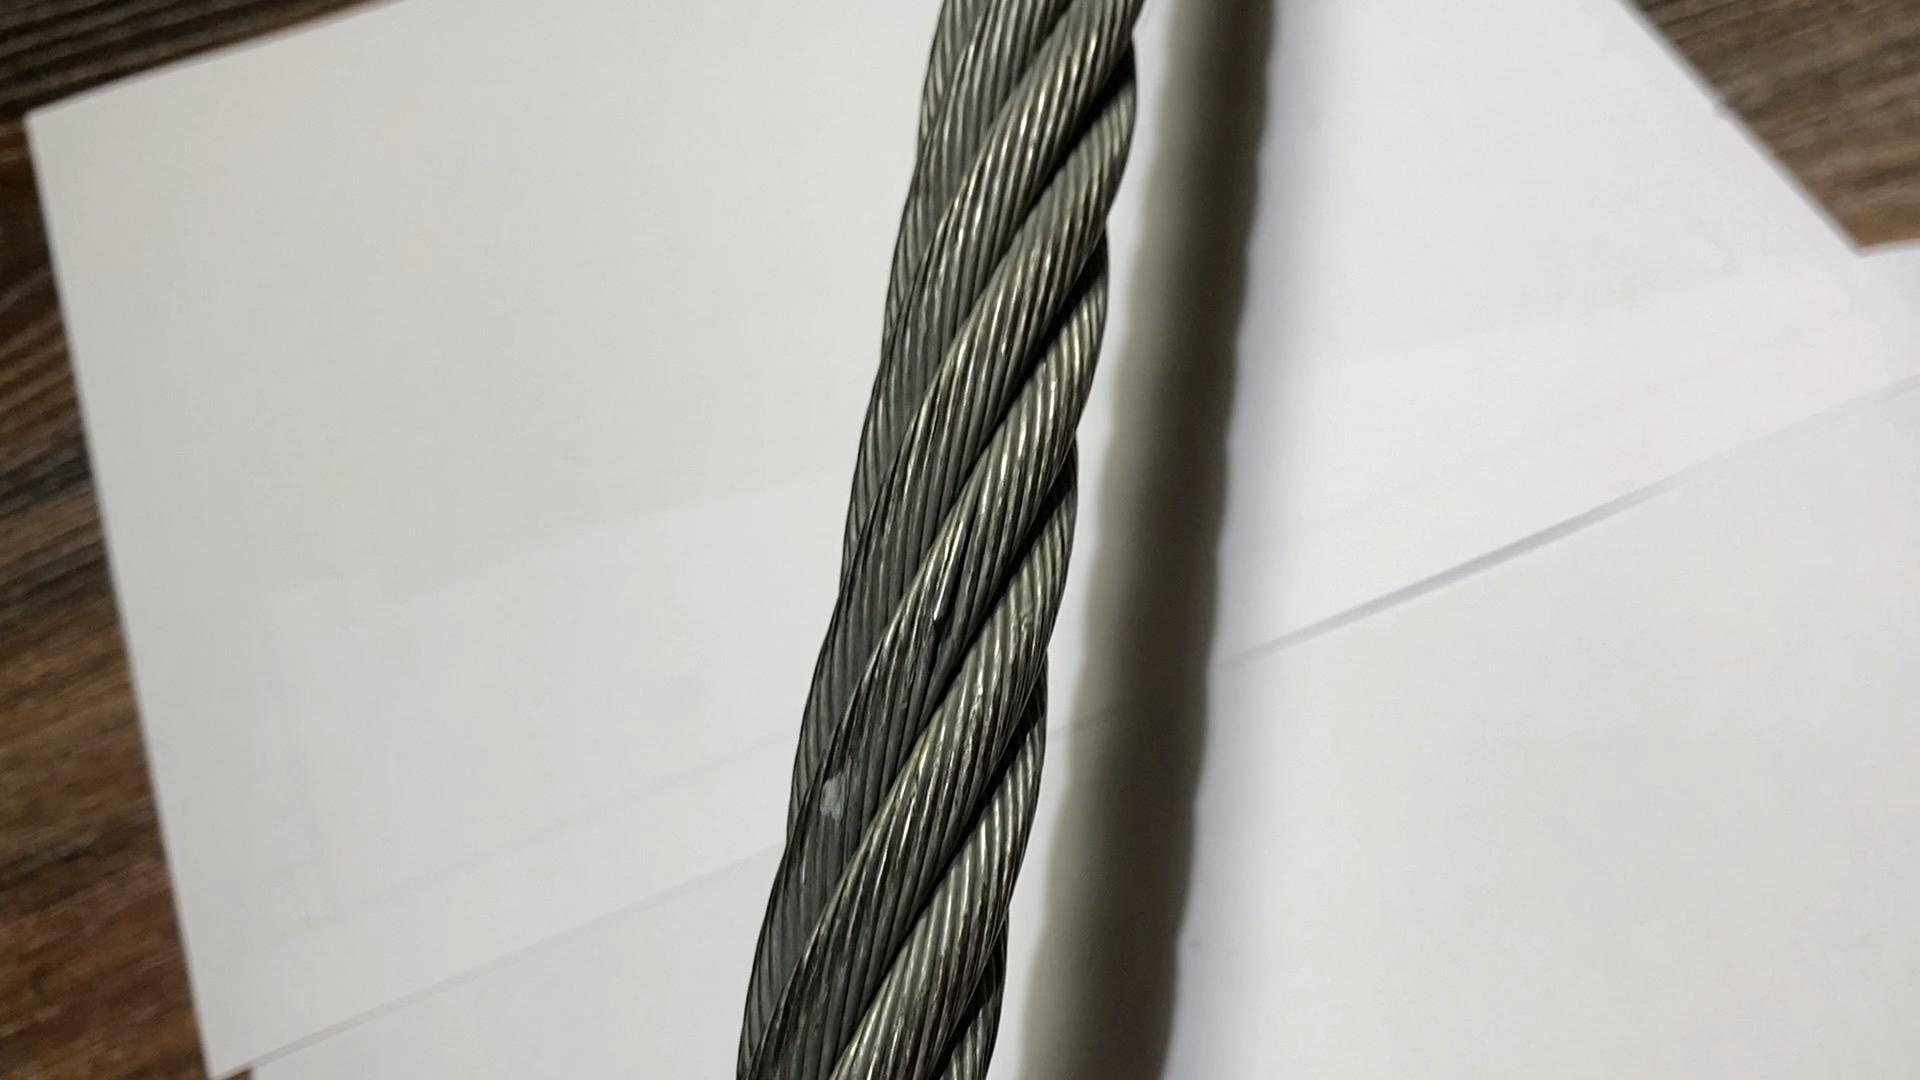break: (905, 574, 975, 646)
